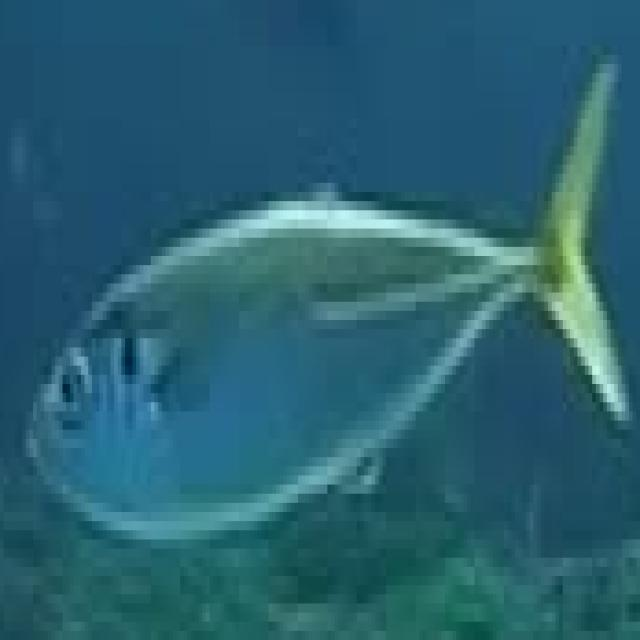fish: (0, 9, 637, 640)
